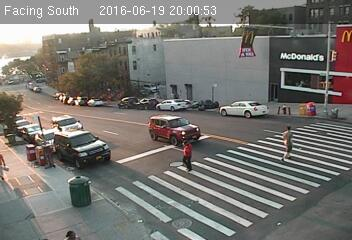neg: (147, 84, 177, 124), (58, 132, 77, 157), (98, 88, 116, 112)
pos: (273, 125, 300, 161), (173, 139, 198, 172)
